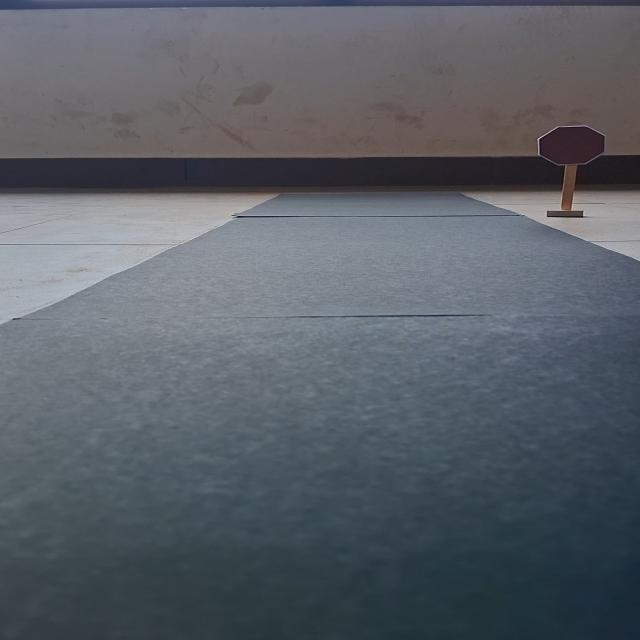Stop: (536, 123, 608, 166)
